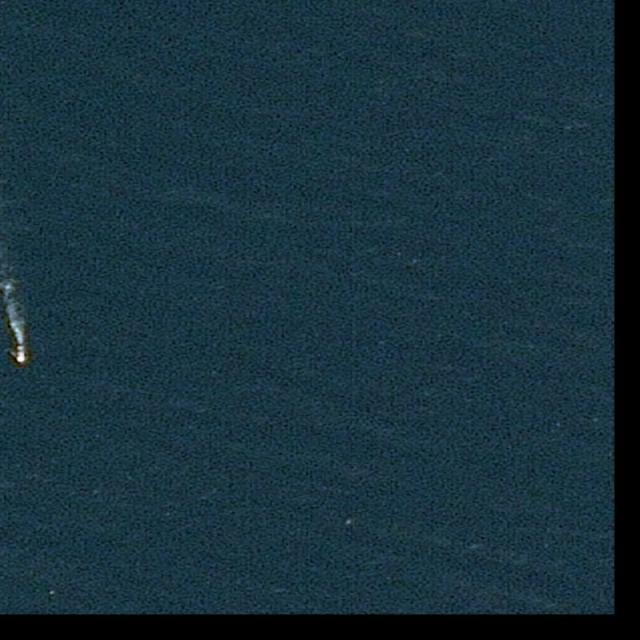ship: (16, 347, 26, 363)
